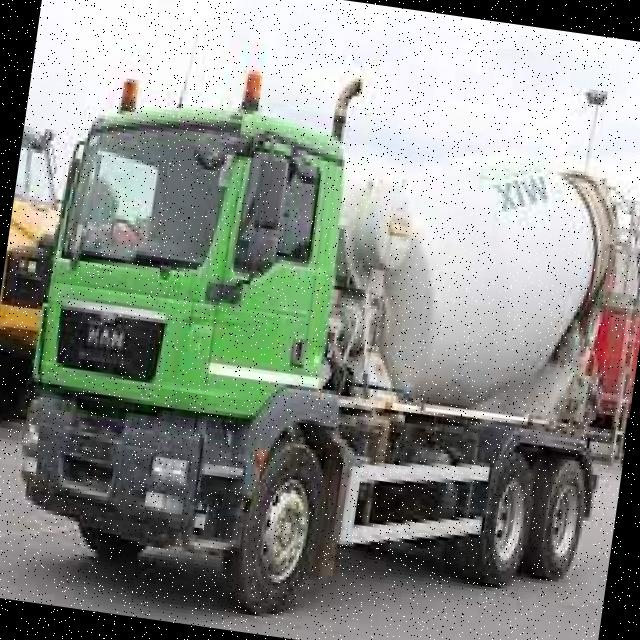Mixer Truck: (1, 29, 640, 640)
